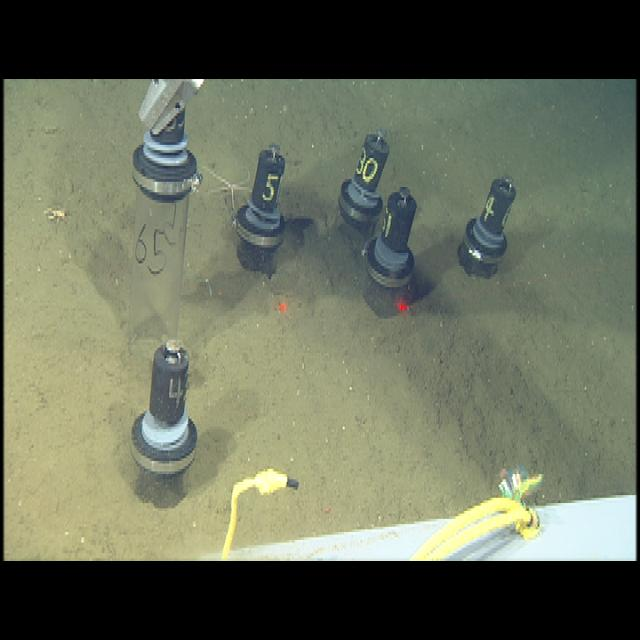Brittle Star: (202, 157, 252, 210)
